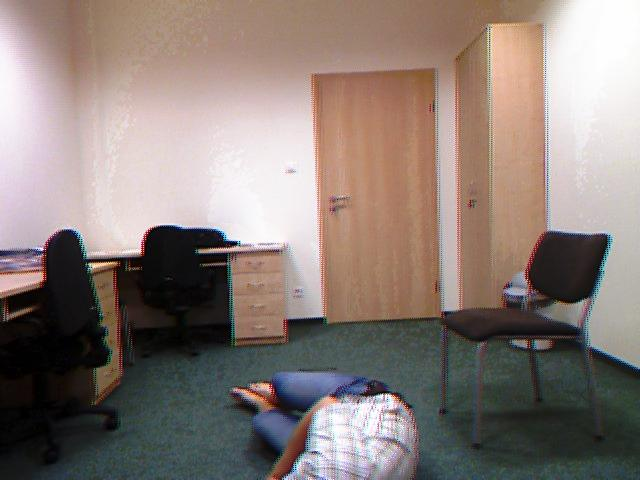fall: (252, 374, 419, 479)
